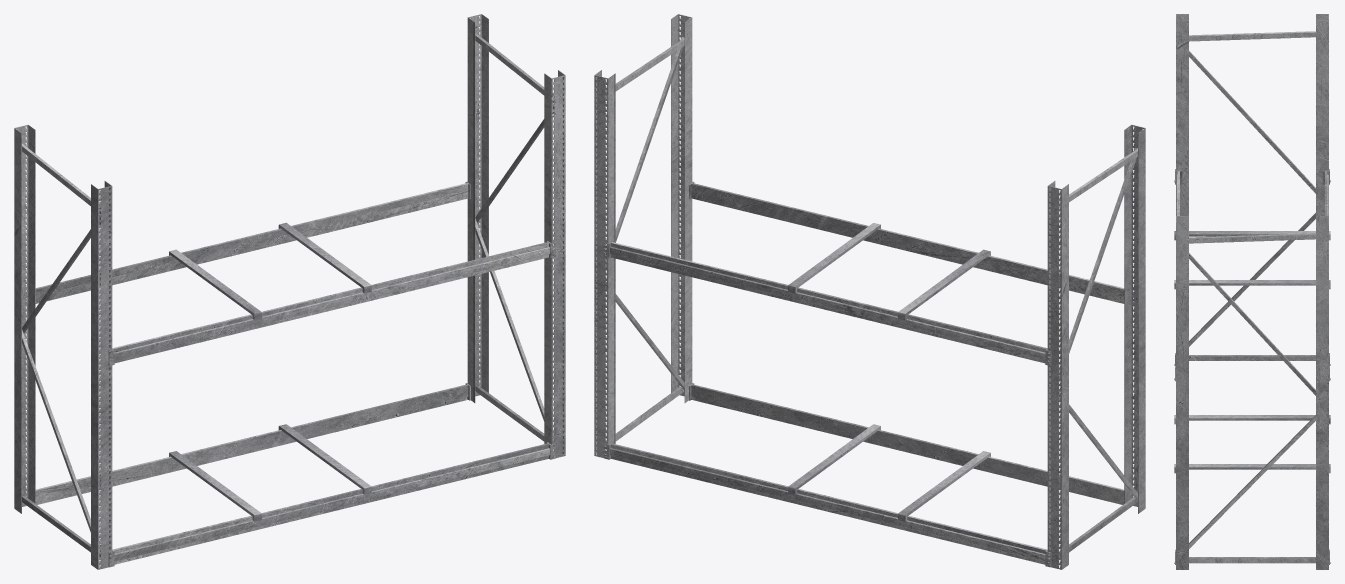
Rendered from Rack.fbx.
3 views of the same model, side by side, from view 1: azimuth 30°, elevation 25°; view 2: azimuth 150°, elevation 25°; view 3: azimuth 270°, elevation 25° (orthographic). The views are drawn at different scales.
Parts seen in each view (by area): view 1: rack; view 2: rack; view 3: rack.
Boxes of the visible parts, left/top/right/bottom form: rack: left=14, top=14, right=565, bottom=569; rack: left=594, top=14, right=1145, bottom=569; rack: left=1174, top=14, right=1330, bottom=569.
Bounding box in the file's own units: 83.98 × 65.3 × 26.64.
Materials: 1 (1 with a texture image).
